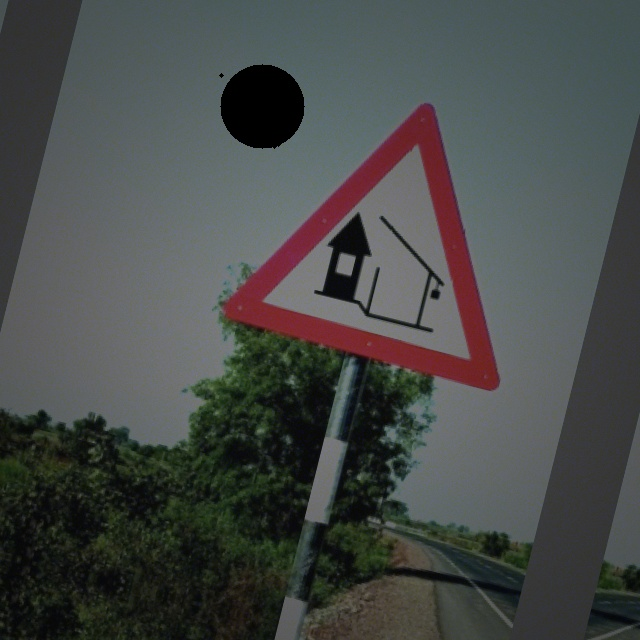Barrier_Ahead: (220, 67, 564, 395)
